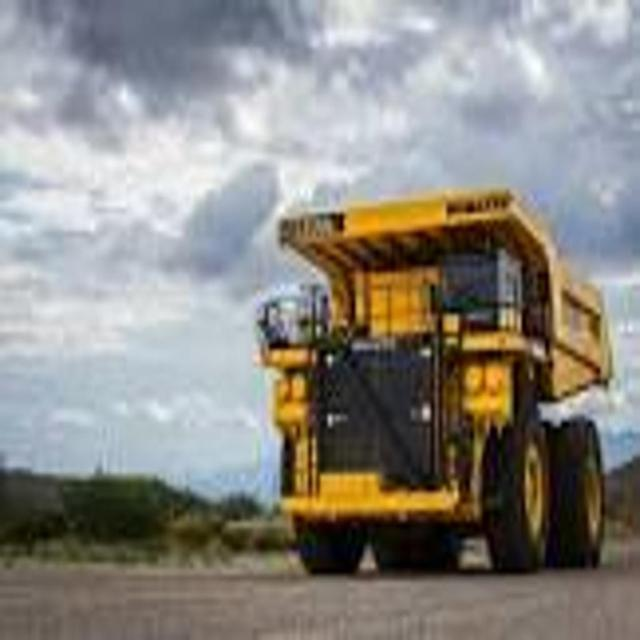dump_truck: (252, 180, 610, 573)
